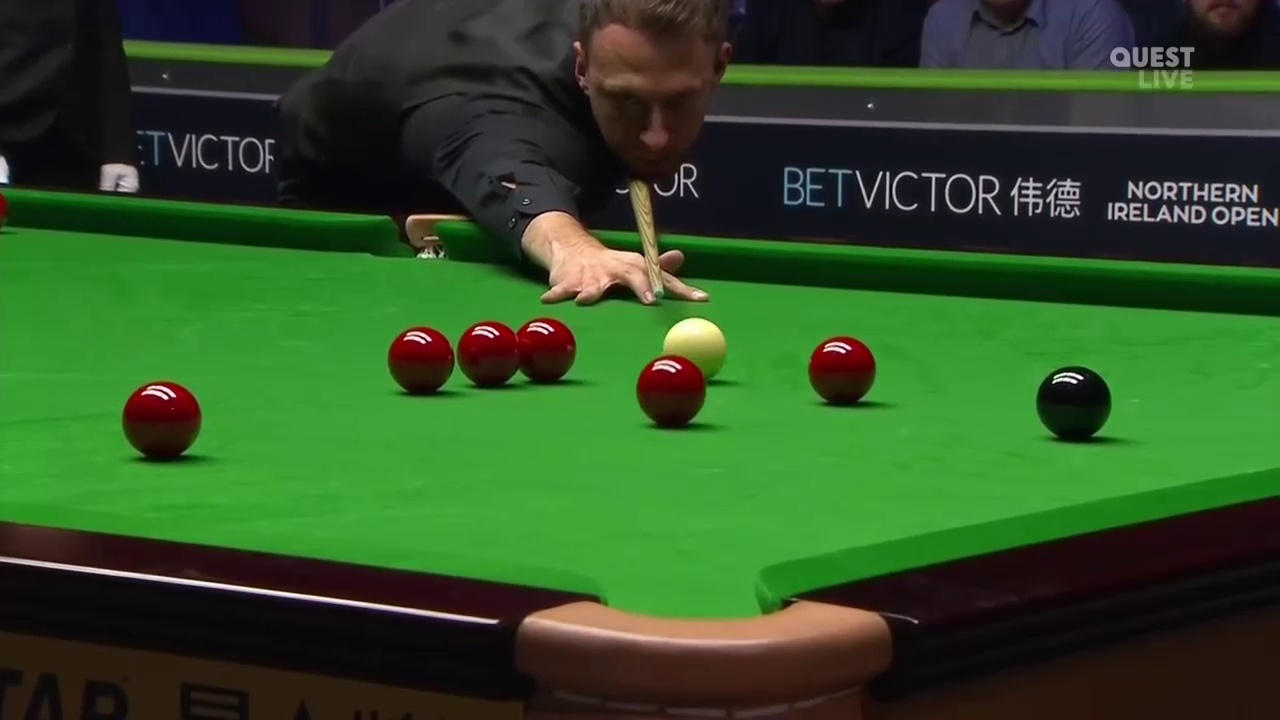black: (1036, 365, 1110, 439)
red: (120, 382, 200, 460), (636, 358, 707, 422), (806, 337, 875, 401), (458, 317, 519, 389), (389, 325, 452, 391), (519, 318, 575, 386)
